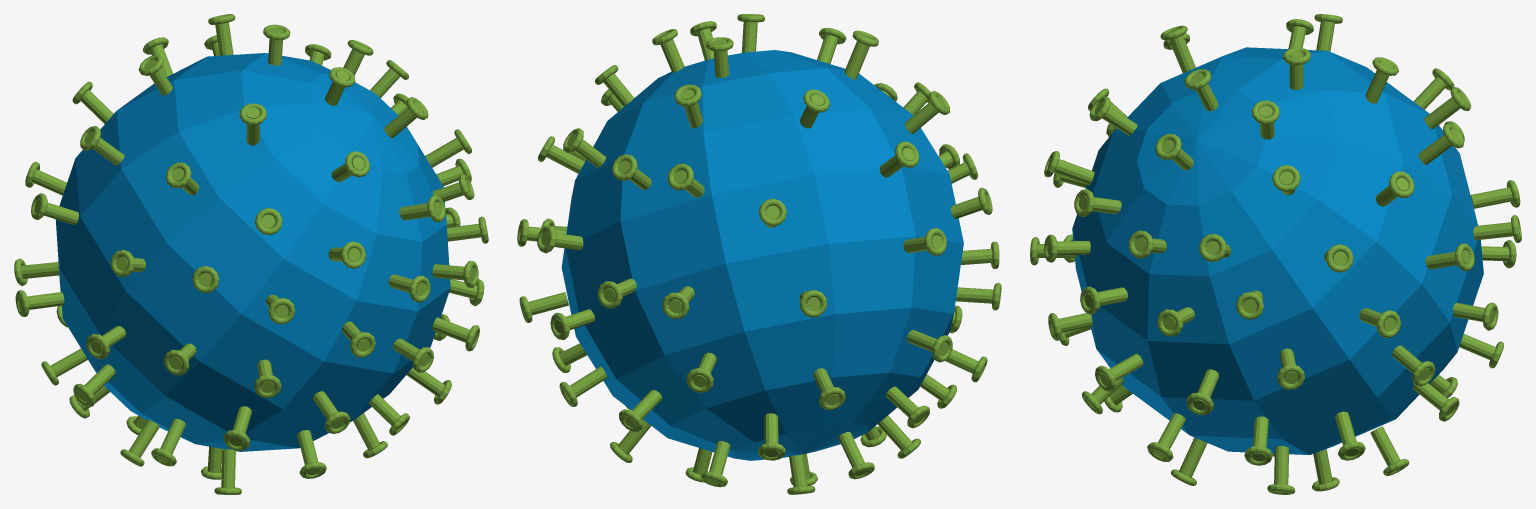
The picture shows the model from 3 angles, left to right: view 1: azimuth 30°, elevation 25°; view 2: azimuth 150°, elevation 25°; view 3: azimuth 270°, elevation 25°; orthographic projection. The views are drawn at different scales.
Parts seen in each view (by area): view 1: node_MeshObject205754368-PolyPaper21, node_MeshObject1939487744-PolyPaper9, node_MeshObject-1783400448-PolyPaper9; view 2: node_MeshObject205754368-PolyPaper21, node_MeshObject1939487744-PolyPaper9, node_MeshObject-1783400448-PolyPaper9; view 3: node_MeshObject205754368-PolyPaper21, node_MeshObject1939487744-PolyPaper9, node_MeshObject-1783400448-PolyPaper9.
Part boxes in pixels (x1=…): node_MeshObject205754368-PolyPaper21: x1=55, y1=53, x2=488, y2=478; node_MeshObject1939487744-PolyPaper9: x1=14, y1=37, x2=408, y2=487; node_MeshObject-1783400448-PolyPaper9: x1=138, y1=14, x2=355, y2=494; node_MeshObject205754368-PolyPaper21: x1=520, y1=21, x2=999, y2=460; node_MeshObject1939487744-PolyPaper9: x1=517, y1=29, x2=1001, y2=494; node_MeshObject-1783400448-PolyPaper9: x1=612, y1=14, x2=949, y2=485; node_MeshObject205754368-PolyPaper21: x1=1030, y1=47, x2=1483, y2=494; node_MeshObject1939487744-PolyPaper9: x1=1168, y1=19, x2=1521, y2=484; node_MeshObject-1783400448-PolyPaper9: x1=1160, y1=14, x2=1463, y2=491.
Size of the model in its own units: 0.691 by 0.672 by 0.687.
